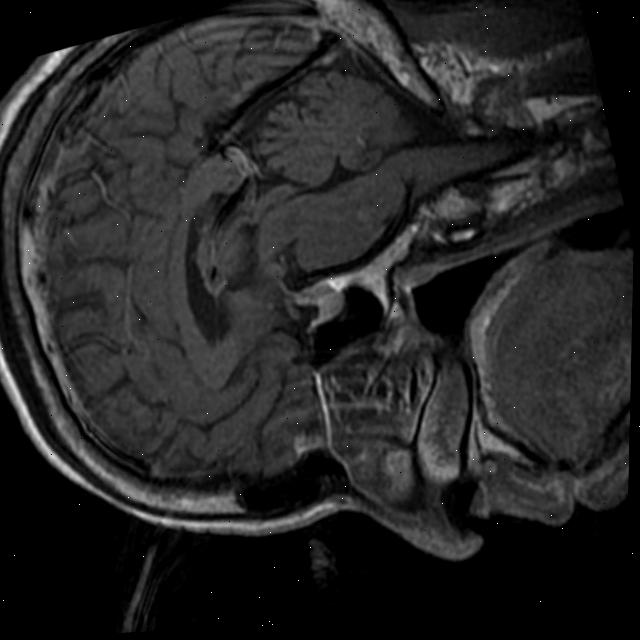Pituitary: (303, 285, 350, 329)
